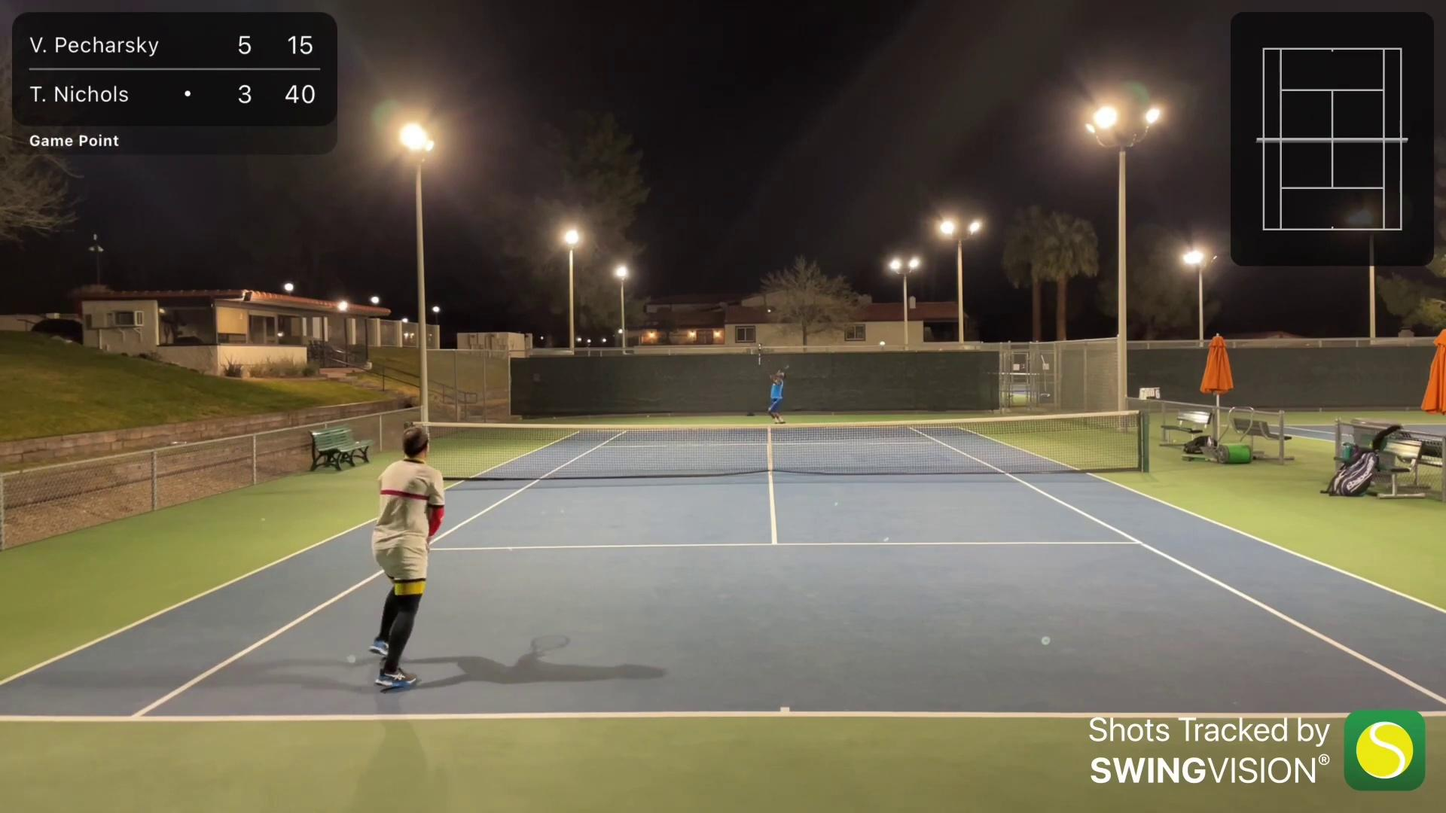ball: (766, 308, 772, 315)
